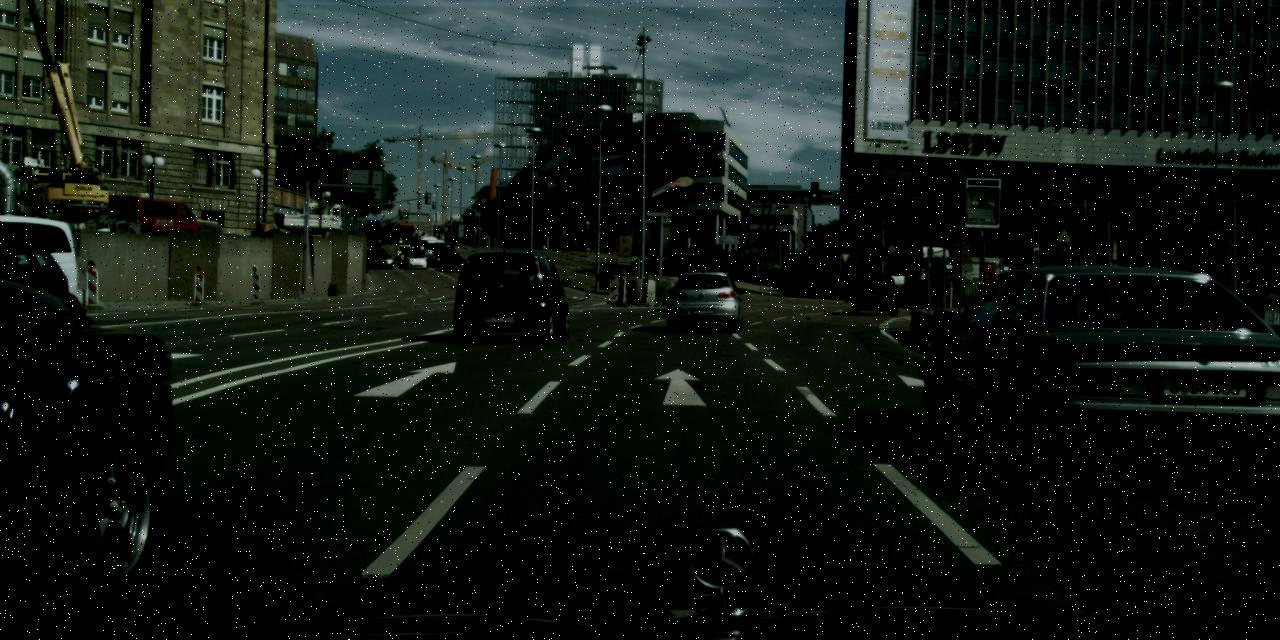ped: (752, 262, 762, 284), (703, 254, 710, 272)
